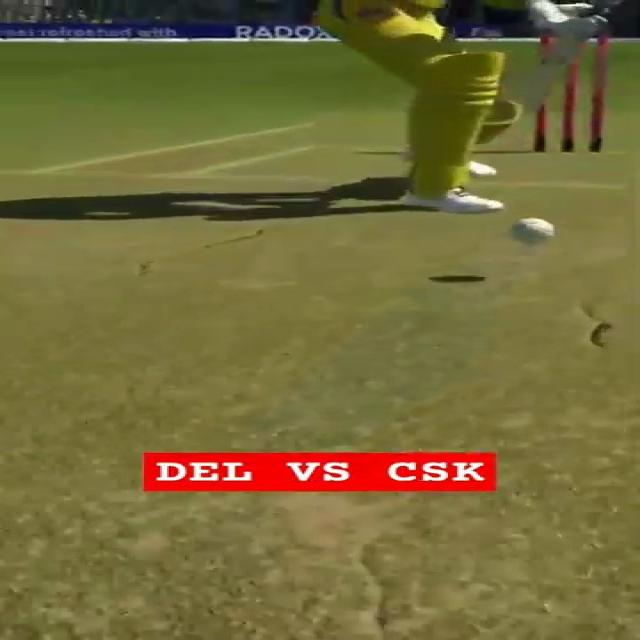ball: (505, 215, 555, 244)
